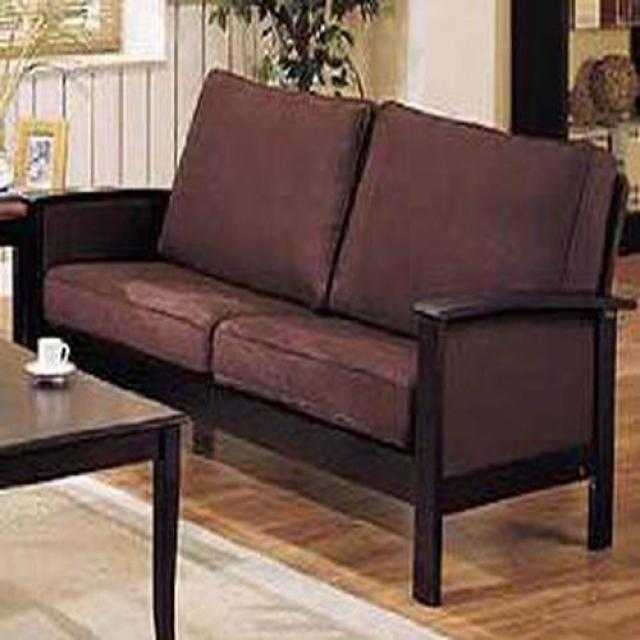sofa: (32, 69, 630, 609)
